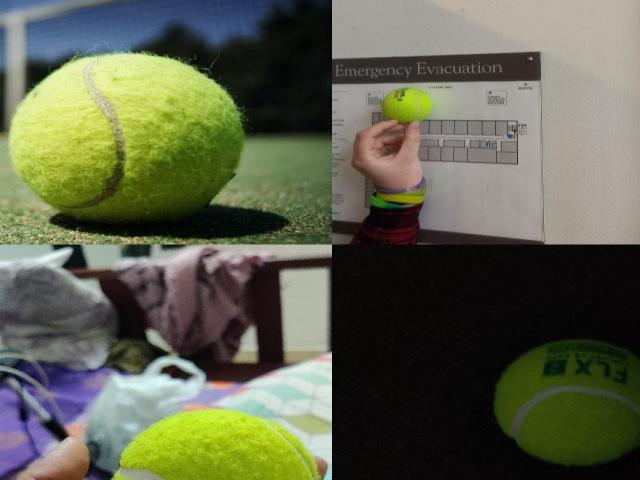tennis-ball: (7, 52, 245, 222), (492, 339, 639, 466), (111, 407, 321, 479), (381, 87, 433, 123)
